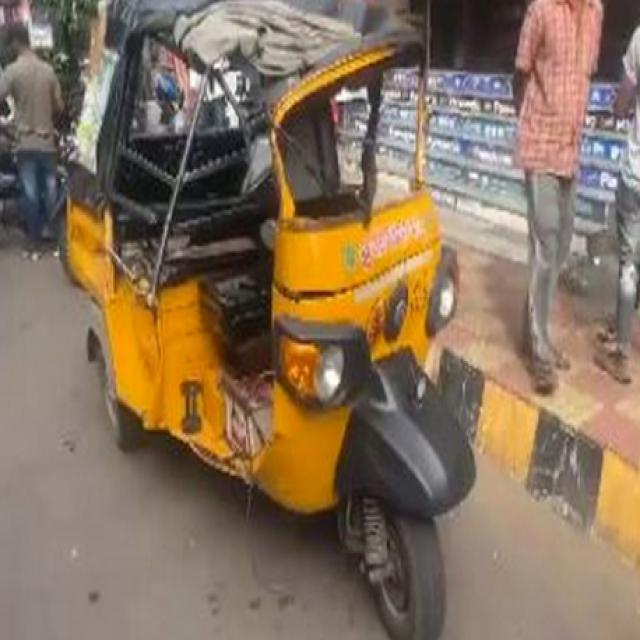accident: (65, 1, 475, 638)
